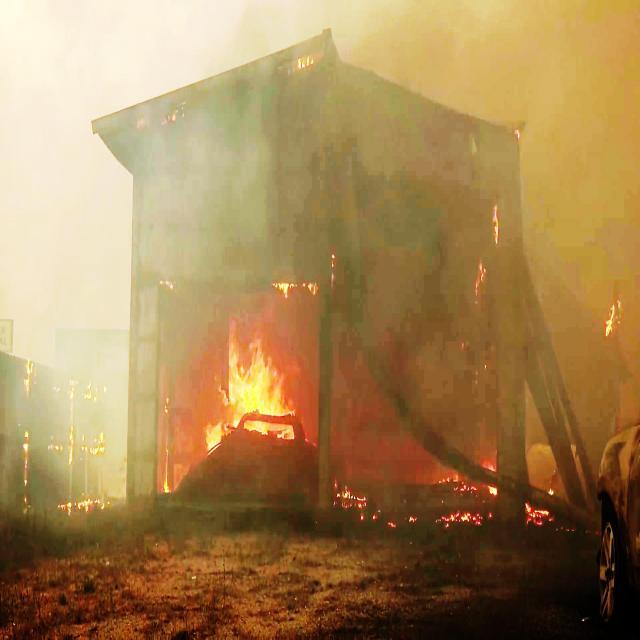Fire: (222, 340, 318, 446)
Smoke: (444, 28, 636, 245), (322, 89, 438, 253)
